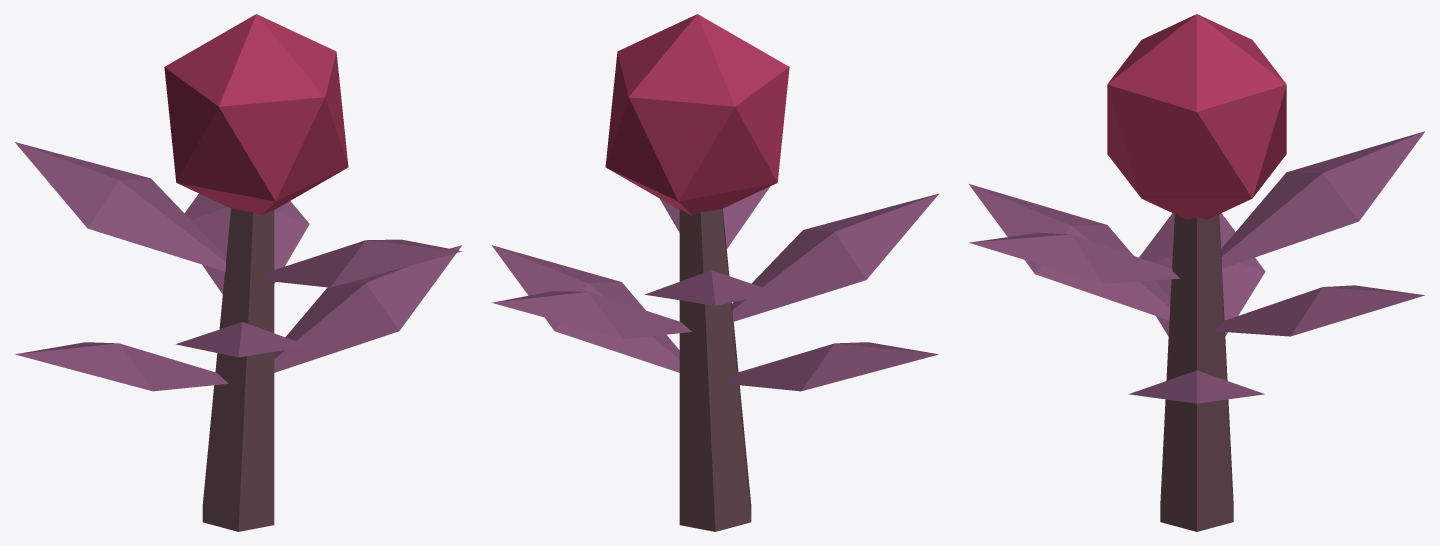
Rendered from pg_plant_corrupt.fbx.
The picture shows the model from 3 angles, left to right: view 1: azimuth 30°, elevation 25°; view 2: azimuth 150°, elevation 25°; view 3: azimuth 270°, elevation 25°; orthographic projection. The views are drawn at different scales.
Parts seen in each view (by area): view 1: GEO-PlantBud, GEO-PlantStem, GEO-PlantLeaf.002, GEO-PlantLeaf, GEO-PlantLeaf.003, GEO-PlantLeaf.005, GEO-PlantLeaf.001, GEO-PlantLeaf.004; view 2: GEO-PlantBud, GEO-PlantStem, GEO-PlantLeaf.004, GEO-PlantLeaf, GEO-PlantLeaf.003, GEO-PlantLeaf.001, GEO-PlantLeaf.002, GEO-PlantLeaf.005; view 3: GEO-PlantBud, GEO-PlantStem, GEO-PlantLeaf.002, GEO-PlantLeaf.004, GEO-PlantLeaf.001, GEO-PlantLeaf.005, GEO-PlantLeaf.003, GEO-PlantLeaf.
Part boxes in pixels (x1,y1,x2,y2): GEO-PlantBud: [164, 14, 348, 215]; GEO-PlantStem: [202, 208, 274, 531]; GEO-PlantLeaf.002: [15, 142, 226, 271]; GEO-PlantLeaf: [274, 245, 461, 372]; GEO-PlantLeaf.003: [15, 342, 228, 391]; GEO-PlantLeaf.005: [260, 239, 461, 287]; GEO-PlantLeaf.001: [184, 193, 309, 294]; GEO-PlantLeaf.004: [176, 322, 309, 357]; GEO-PlantBud: [605, 14, 789, 215]; GEO-PlantStem: [679, 208, 751, 531]; GEO-PlantLeaf.004: [732, 193, 939, 321]; GEO-PlantLeaf: [492, 245, 679, 372]; GEO-PlantLeaf.003: [725, 342, 938, 391]; GEO-PlantLeaf.001: [491, 291, 691, 339]; GEO-PlantLeaf.002: [645, 270, 777, 305]; GEO-PlantLeaf.005: [660, 186, 769, 248]; GEO-PlantBud: [1107, 14, 1286, 219]; GEO-PlantStem: [1160, 214, 1233, 531]; GEO-PlantLeaf.002: [1221, 131, 1425, 268]; GEO-PlantLeaf.004: [969, 184, 1170, 320]; GEO-PlantLeaf.001: [1213, 285, 1424, 336]; GEO-PlantLeaf.005: [969, 232, 1180, 283]; GEO-PlantLeaf.003: [1139, 213, 1265, 336]; GEO-PlantLeaf: [1129, 370, 1264, 403].
Bounding box in the file's own units: 100 × 106 × 86.6.
